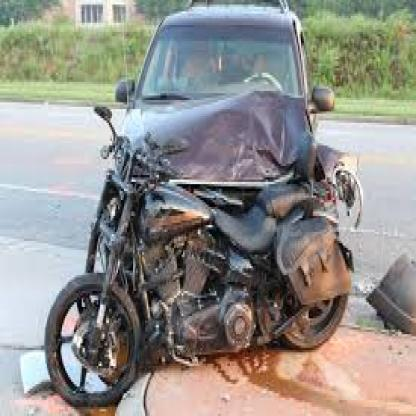accident: (34, 2, 368, 387)
